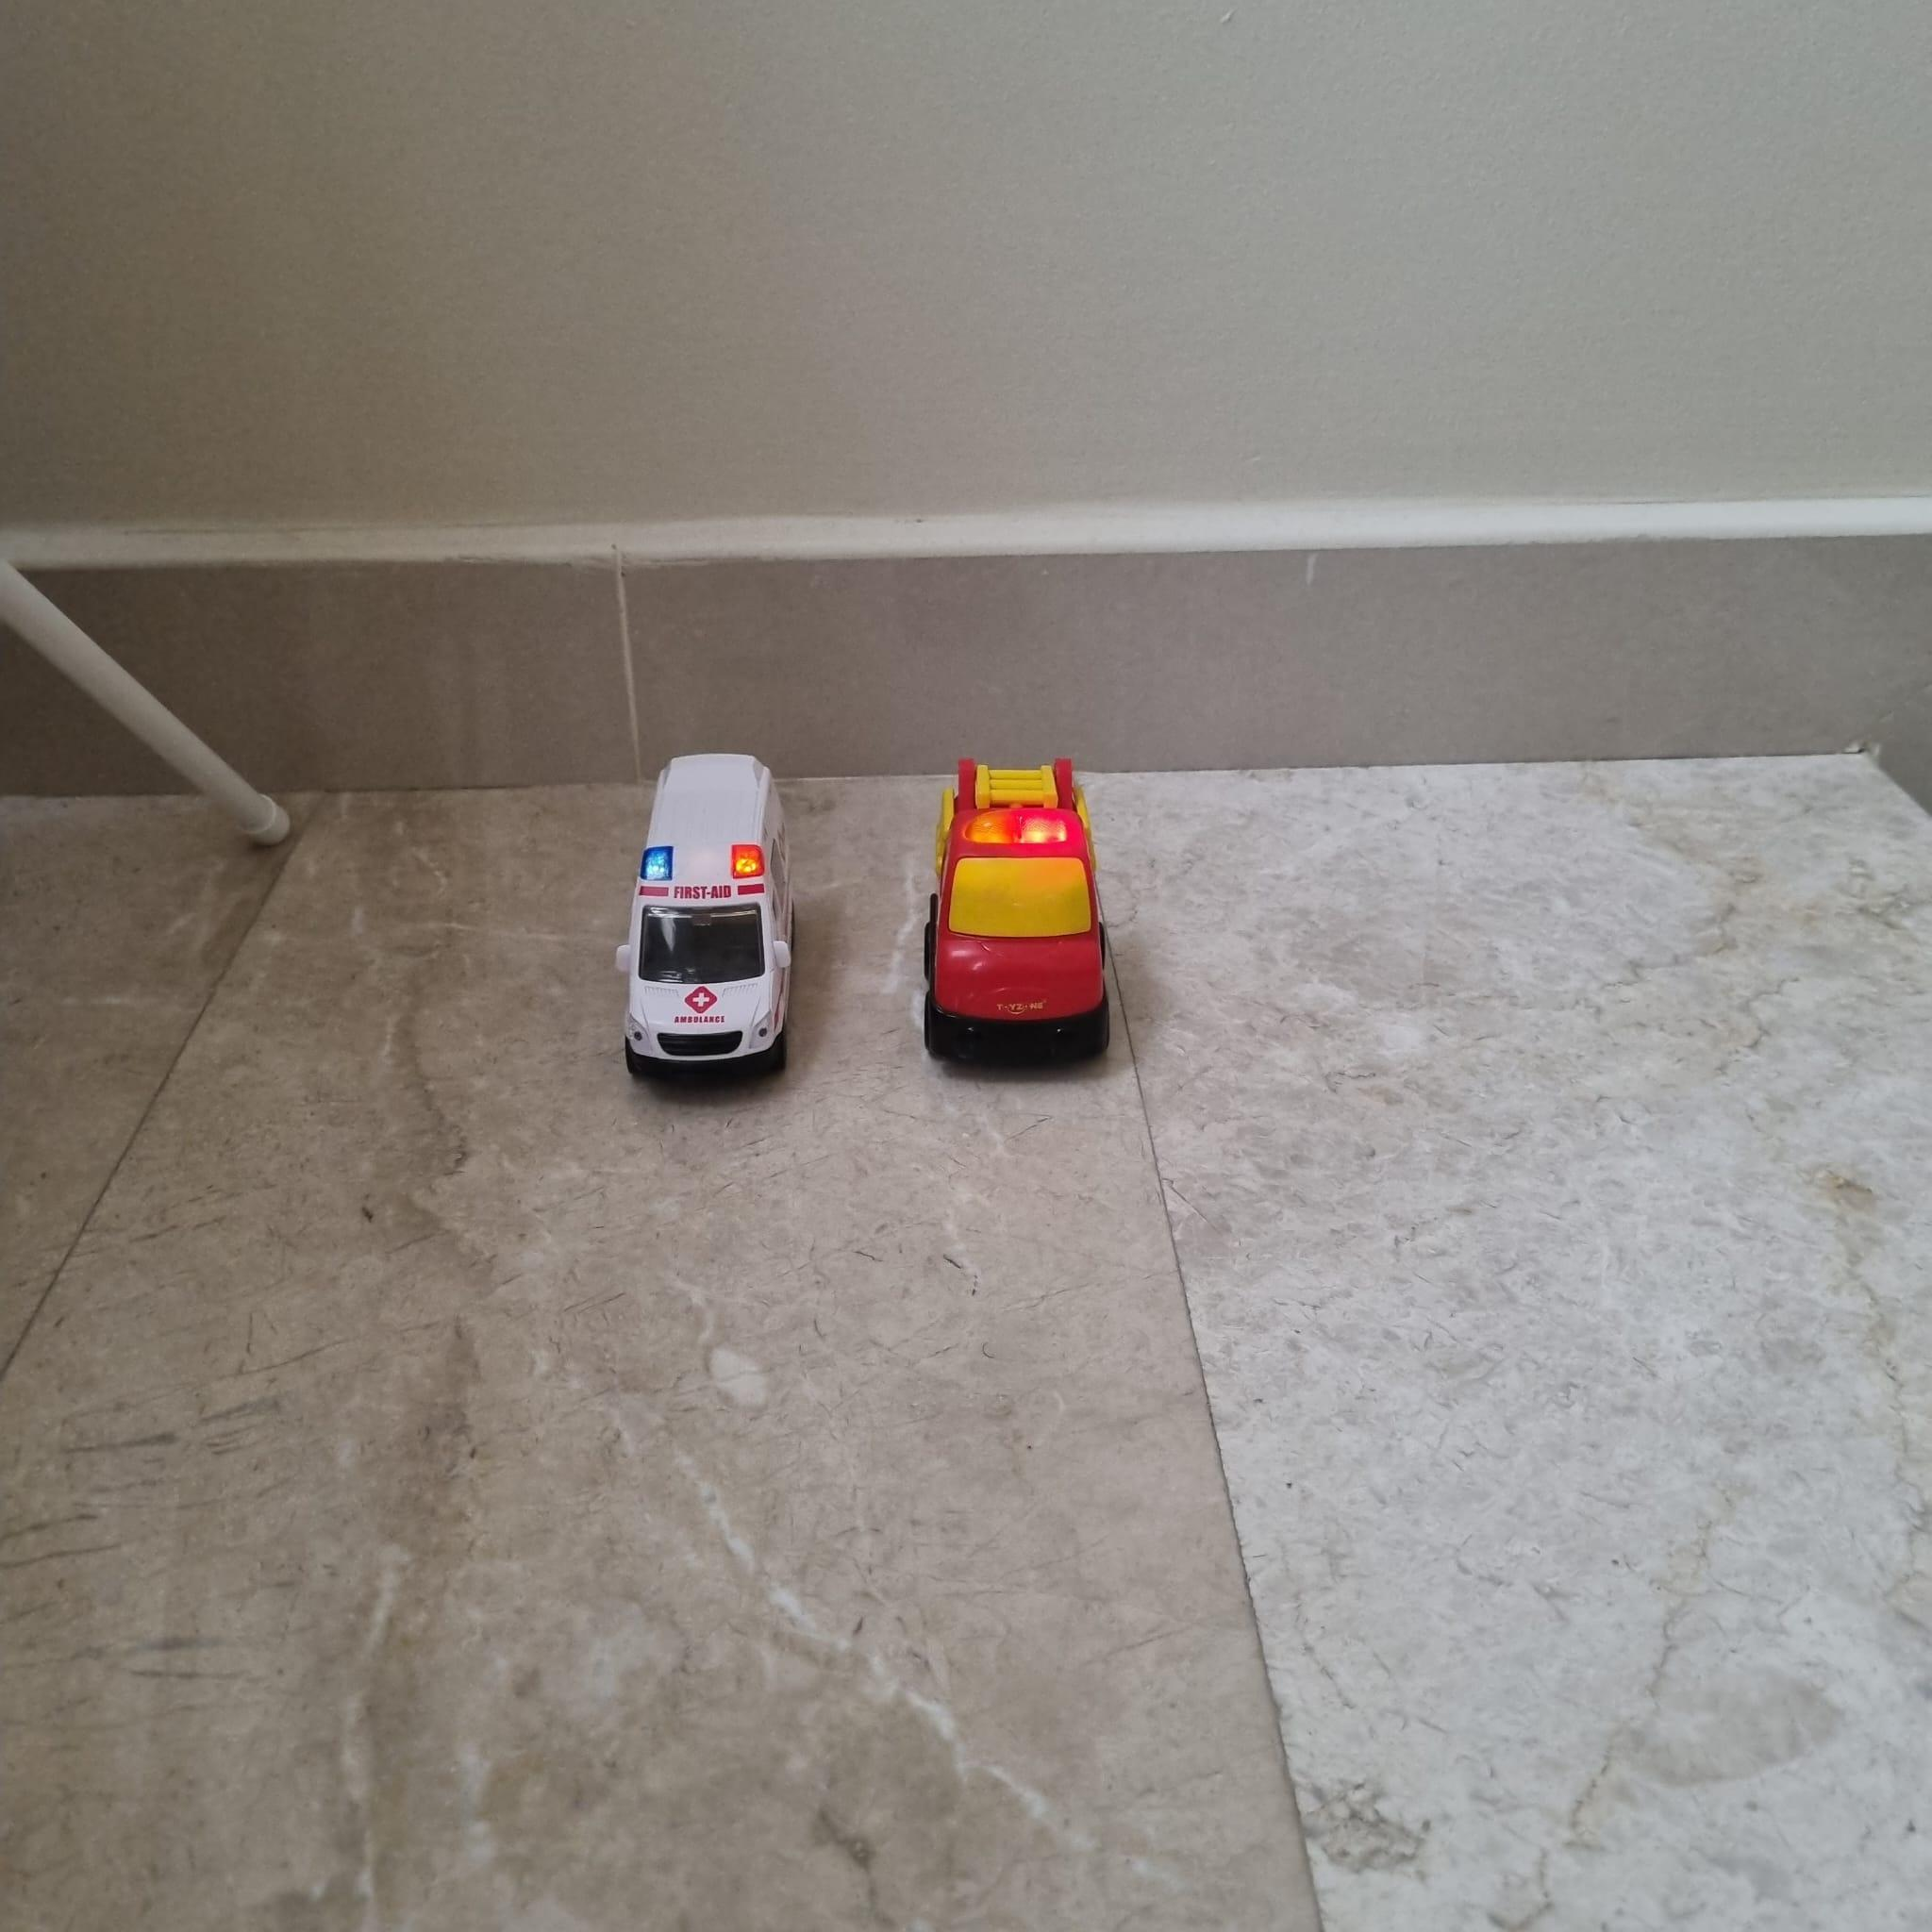ambulance_on: (616, 752, 794, 1081)
firetruck_on: (924, 759, 1111, 1065)
